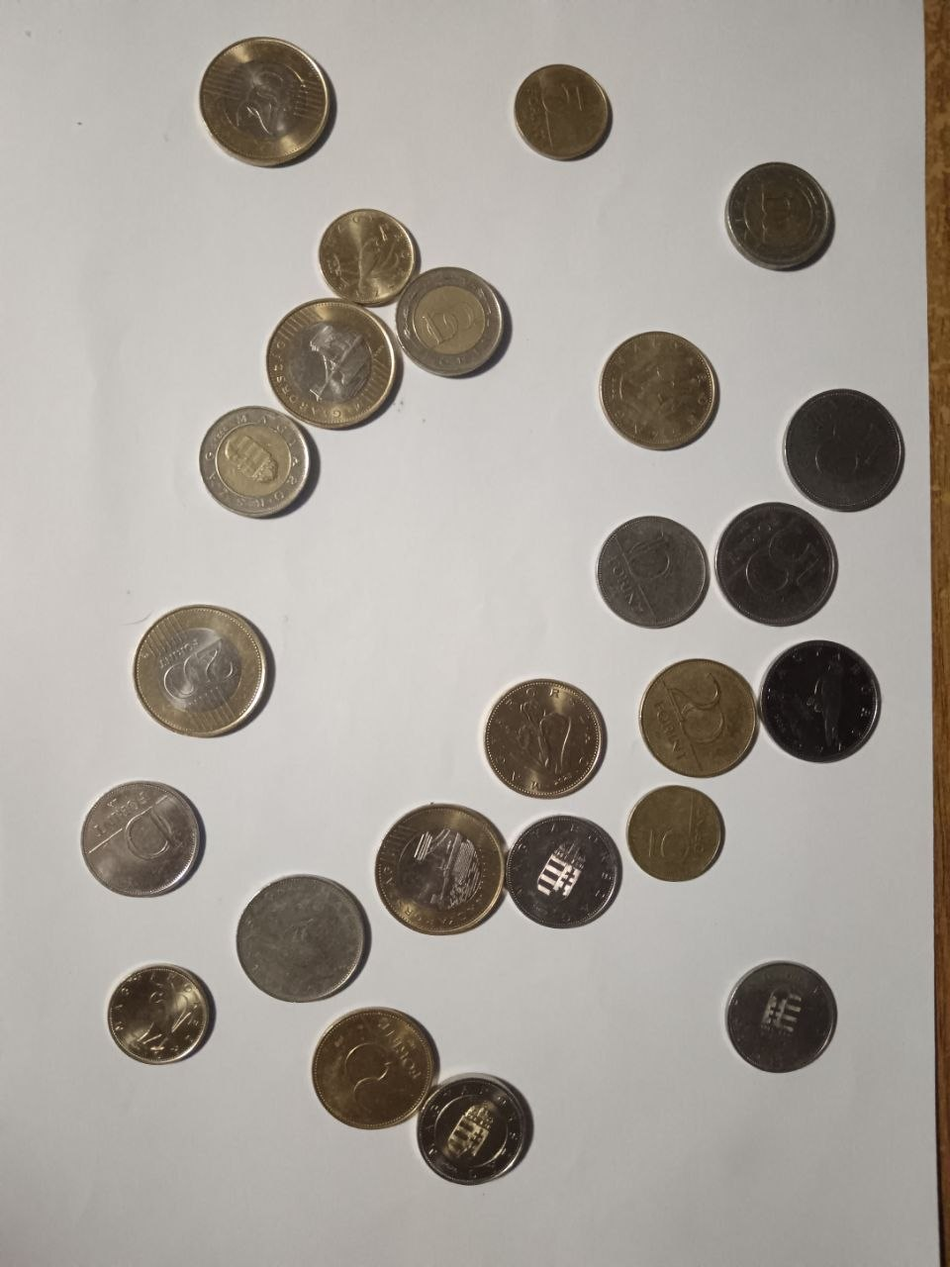100ft: (397, 266, 507, 372), (418, 1075, 525, 1183), (202, 409, 311, 513), (731, 162, 829, 272)
10ft: (85, 781, 199, 895), (506, 816, 617, 928), (728, 962, 835, 1074), (600, 517, 707, 626)
200ft: (138, 607, 269, 736), (198, 38, 330, 165), (376, 804, 504, 931), (267, 301, 395, 423)
20ft: (637, 659, 758, 777), (487, 678, 604, 796), (600, 333, 717, 447), (317, 1010, 428, 1126)
50ft: (237, 876, 369, 1004), (714, 505, 839, 624), (785, 390, 901, 510), (765, 640, 881, 758)
5ft: (110, 969, 214, 1065), (628, 785, 725, 880), (514, 64, 610, 158), (320, 210, 417, 291)
